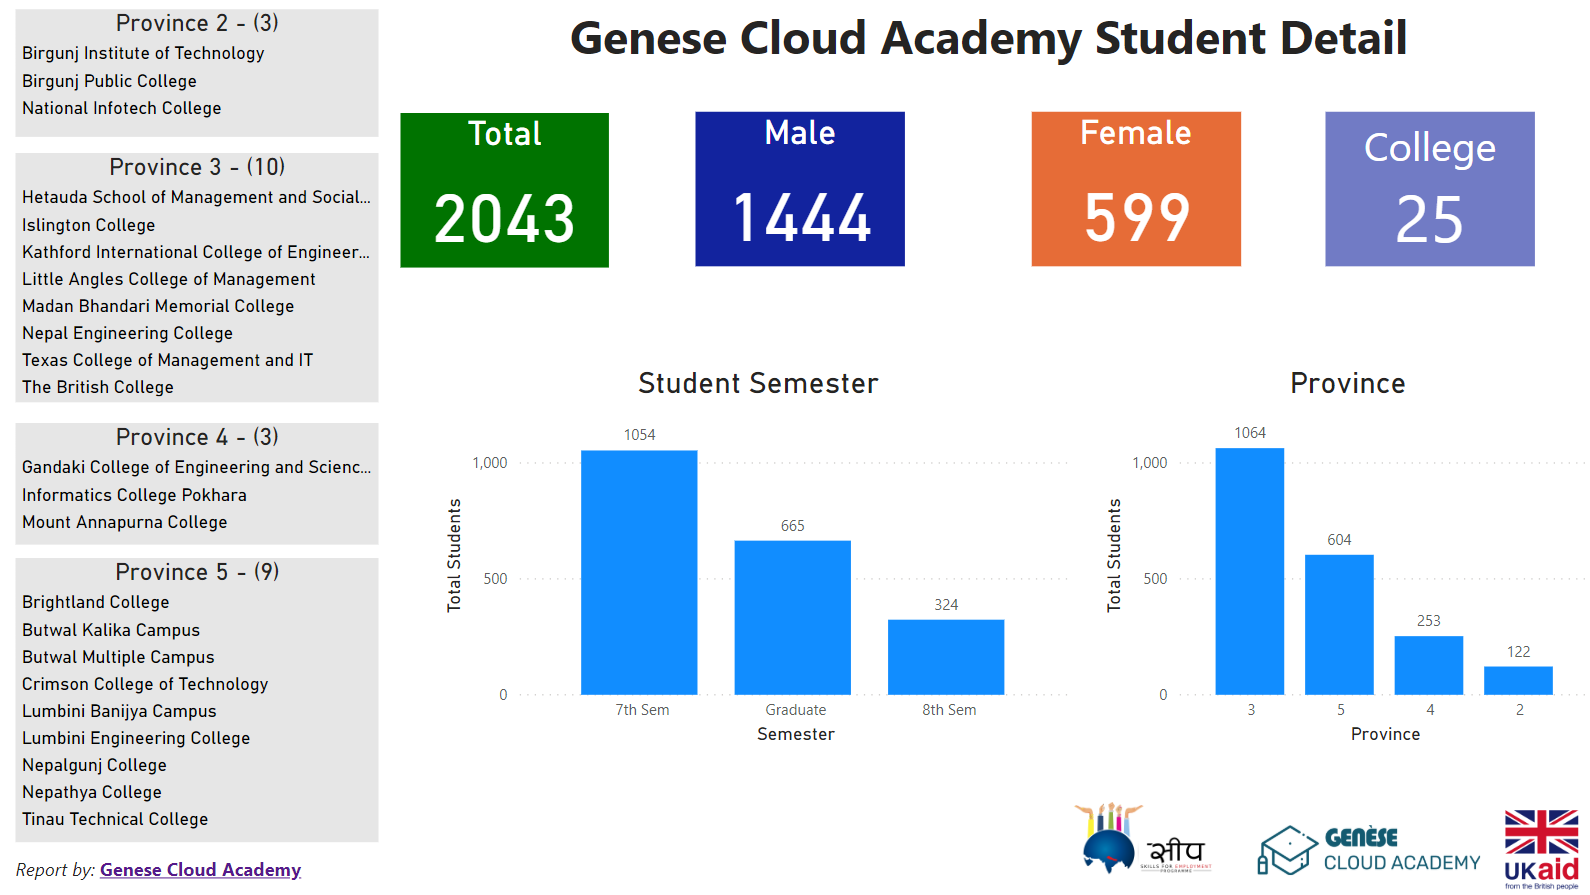

Layout of this report page (visuals, bound fields, positions):
{"tool":"powerbi","page":{"name":"Dashboard","canvas":[1280,720],"ordinal":0},"visuals":[{"type":"pieChart","title":"Student Gender","fields":{"Category":["user_latest.profile_field_gender1"],"Series":["user_latest.profile_field_gender1"],"Y":["CountNonNull(user_latest.profile_field_gender)"]},"box":[2.1,303.2,367.2,310.5],"z":0},{"type":"columnChart","title":"Student Semester","fields":{"Category":["user_latest.profile_field_Semester1"],"Y":["CountNonNull(user_latest.profile_field_Semester)1"]},"box":[369.4,303.2,513.4,310.5],"z":1000},{"type":"columnChart","title":"Province","fields":{"Category":["user_latest.profile_field_Province1"],"Y":["CountNonNull(user_latest.profile_field_Province)1"]},"box":[882.3,302.7,397.4,310.5],"z":2000},{"type":"card","title":"Total","fields":{"Values":["CountNonNull(user_latest.id)"]},"box":[47.1,98.8,178.8,124.4],"z":3000},{"type":"card","title":"Male","fields":{"Values":["CountNonNull(user_latest.profile_field_gender)"]},"box":[518.2,98.8,178.8,124.4],"z":4000},{"type":"card","title":"Female","fields":{"Values":["CountNonNull(user_latest.profile_field_gender)"]},"box":[1019.5,98.8,178.8,124.4],"z":5000},{"type":"textbox","box":[0,10.9,1279.3,72.5],"z":6000},{"type":"card","fields":{"Values":["Min(Kathmandu.datetime)"]},"box":[994.2,641.5,268.2,68.9],"z":7000}]}

Visuals, with their boxes in screenshot pixels (x1, y1, x2, y2), scaled from the page's 1280x720 canvas onto the 1590x895 screenshot:
"Student Gender" pieChart: (left=3, top=377, right=459, bottom=763)
"Student Semester" columnChart: (left=459, top=377, right=1097, bottom=763)
"Province" columnChart: (left=1096, top=376, right=1589, bottom=762)
"Total" card: (left=59, top=123, right=281, bottom=277)
"Male" card: (left=644, top=123, right=866, bottom=277)
"Female" card: (left=1266, top=123, right=1489, bottom=277)
textbox: (left=0, top=14, right=1589, bottom=104)
card - Min(Kathmandu.datetime): (left=1235, top=797, right=1568, bottom=883)
